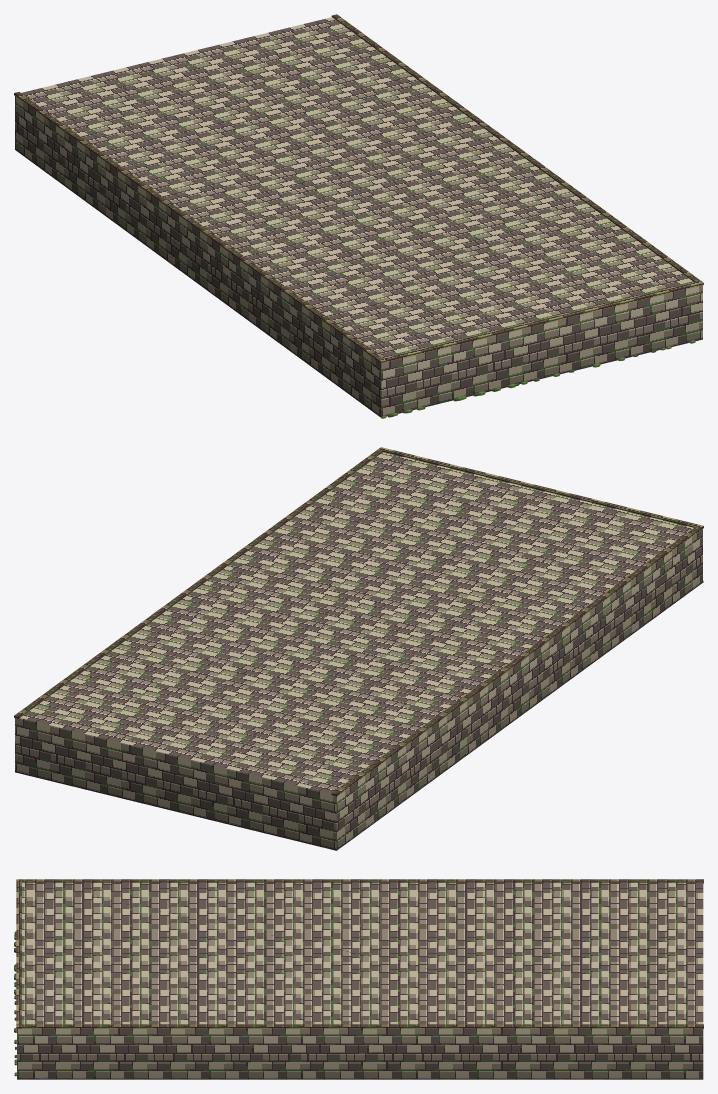
The model's file is scene_wall_e.glb.
3 views of the same model, one above another, from view 1: azimuth 30°, elevation 25°; view 2: azimuth 150°, elevation 25°; view 3: azimuth 270°, elevation 25° (orthographic). The views are drawn at different scales.
Visible parts, largest first — view 1: scene_wall_e; view 2: scene_wall_e; view 3: scene_wall_e.
Part boxes in pixels (bbox=[...]): scene_wall_e: bbox=[14, 14, 703, 418]; scene_wall_e: bbox=[14, 447, 703, 850]; scene_wall_e: bbox=[14, 879, 703, 1079].
Size of the model in its own units: 21.9 by 3.77 by 43.24.
2 materials, 1 textured.
